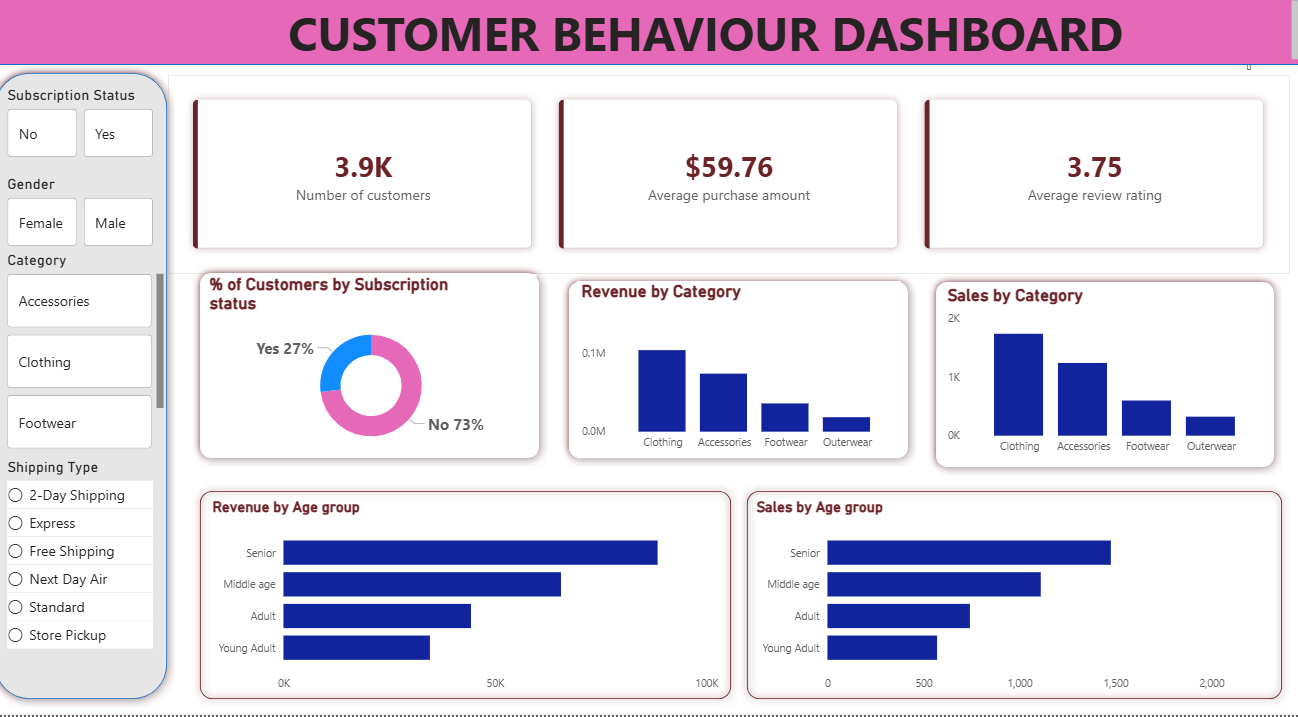

The page's visual inventory and layout, read from the dashboard file:
{"tool":"powerbi","page":{"name":"Page 1","canvas":[1500,820],"ordinal":0},"visuals":[{"type":"cardVisual","fields":{"Data":["customer_shopping_behavior.Number of customers","customer_shopping_behavior.Average purchase amount","customer_shopping_behavior.Average review rating"]},"box":[206.3,90,1278.9,226.8],"z":0},{"type":"shape","box":[0,0,1500,78.6],"z":1000},{"type":"textbox","box":[0,0,1500,78.6],"z":2000},{"type":"shape","box":[233.7,306.6,404.6,229.1],"z":3000},{"type":"donutChart","title":"% of Customers by Subscription status","fields":{"Category":["customer_shopping_behavior.Subscription Status"],"Y":["CountNonNull(customer_shopping_behavior.Customer ID)"]},"box":[248.5,316.9,378.4,206.3],"z":4000},{"type":"shape","box":[654.3,316.9,404.6,218.8],"z":5000},{"type":"shape","box":[1072.6,316.9,403.5,229.1],"z":6000},{"type":"clusteredColumnChart","title":"Revenue by Category","fields":{"Category":["customer_shopping_behavior.Category"],"Y":["Sum(customer_shopping_behavior.Purchase Amount (USD))"]},"box":[672.5,324.8,369.3,201.7],"z":7000},{"type":"clusteredColumnChart","title":"Sales by Category","fields":{"Category":["customer_shopping_behavior.Category"],"Y":["CountNonNull(customer_shopping_behavior.Purchase Amount (USD))"]},"box":[1089.7,329.4,369.3,201.7],"z":8000},{"type":"shape","box":[0,78.6,214.3,731.8],"z":9000},{"type":"advancedSlicerVisual","fields":{"Values":["customer_shopping_behavior.Subscription Status"]},"box":[18.2,102.6,176.7,86.6],"z":10000},{"type":"advancedSlicerVisual","fields":{"Values":["customer_shopping_behavior.Gender"]},"box":[18.2,204,176.7,86.6],"z":11000},{"type":"advancedSlicerVisual","fields":{"Values":["customer_shopping_behavior.Category"]},"box":[18.2,290.7,188.1,232.5],"z":12000},{"type":"listSlicer","fields":{"Values":["customer_shopping_behavior.Shipping Type"]},"box":[18.2,526.6,176.7,292.9],"z":13000},{"type":"clusteredBarChart","title":"Revenue by Age group","fields":{"Category":["customer_shopping_behavior.Age group"],"Y":["customer_shopping_behavior.Revenue"]},"box":[251.9,572.2,587,229.1],"z":14000},{"type":"clusteredBarChart","title":"Sales by Age group","fields":{"Category":["customer_shopping_behavior.Age group"],"Y":["CountNonNull(customer_shopping_behavior.Customer ID)"]},"box":[872,572.2,543.7,229.1],"z":15000},{"type":"shape","box":[857.1,555.1,628,255.3],"z":16000},{"type":"shape","box":[233.7,555.1,623.5,255.3],"z":17000}]}

Visuals, with their boxes in screenshot pixels (x1, y1, x2, y2), scaled from the page's 1500x820 canvas onto the 1298x717 screenshot:
cardVisual - customer_shopping_behavior.Number of customers x customer_shopping_behavior.Average purchase amount: pyautogui.locateOnScreen(179, 79, 1285, 277)
shape: pyautogui.locateOnScreen(0, 0, 1297, 69)
textbox: pyautogui.locateOnScreen(0, 0, 1297, 69)
shape: pyautogui.locateOnScreen(202, 268, 552, 468)
"% of Customers by Subscription status" donutChart: pyautogui.locateOnScreen(215, 277, 542, 457)
shape: pyautogui.locateOnScreen(566, 277, 916, 468)
shape: pyautogui.locateOnScreen(928, 277, 1277, 477)
"Revenue by Category" clusteredColumnChart: pyautogui.locateOnScreen(582, 284, 902, 460)
"Sales by Category" clusteredColumnChart: pyautogui.locateOnScreen(943, 288, 1263, 464)
shape: pyautogui.locateOnScreen(0, 69, 185, 709)
advancedSlicerVisual - customer_shopping_behavior.Subscription Status: pyautogui.locateOnScreen(16, 90, 169, 165)
advancedSlicerVisual - customer_shopping_behavior.Gender: pyautogui.locateOnScreen(16, 178, 169, 254)
advancedSlicerVisual - customer_shopping_behavior.Category: pyautogui.locateOnScreen(16, 254, 179, 457)
listSlicer - customer_shopping_behavior.Shipping Type: pyautogui.locateOnScreen(16, 460, 169, 716)
"Revenue by Age group" clusteredBarChart: pyautogui.locateOnScreen(218, 500, 726, 701)
"Sales by Age group" clusteredBarChart: pyautogui.locateOnScreen(755, 500, 1225, 701)
shape: pyautogui.locateOnScreen(742, 485, 1285, 709)
shape: pyautogui.locateOnScreen(202, 485, 742, 709)
